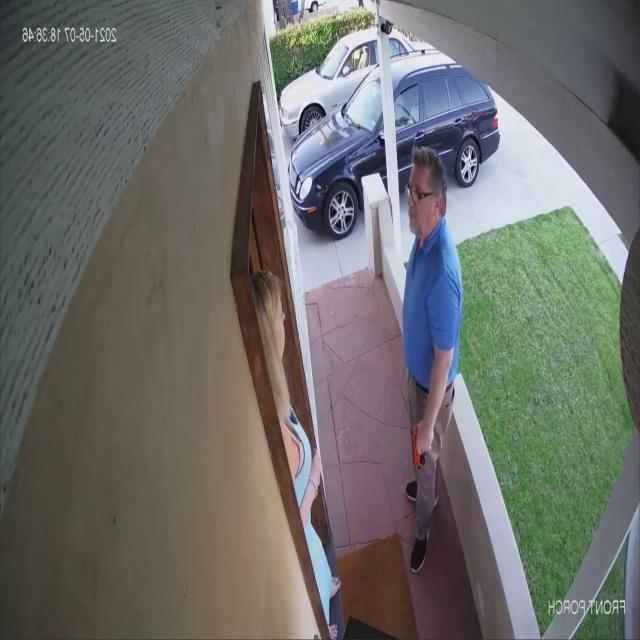Gun: (410, 423, 428, 472)
